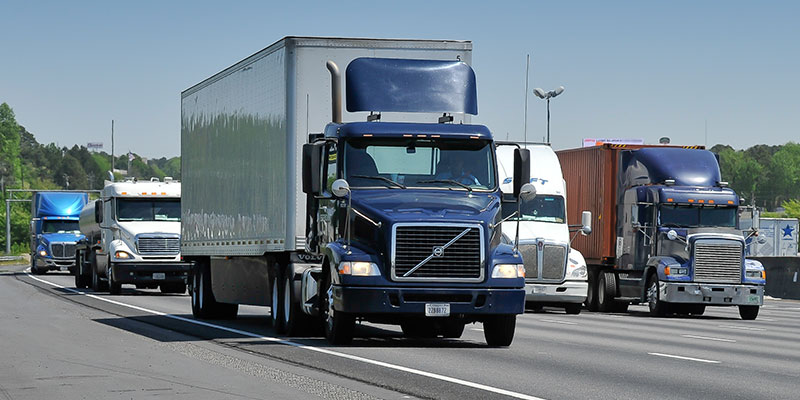truck: (177, 37, 521, 352), (558, 140, 766, 321), (488, 139, 586, 314), (72, 179, 191, 294), (28, 190, 88, 276)
